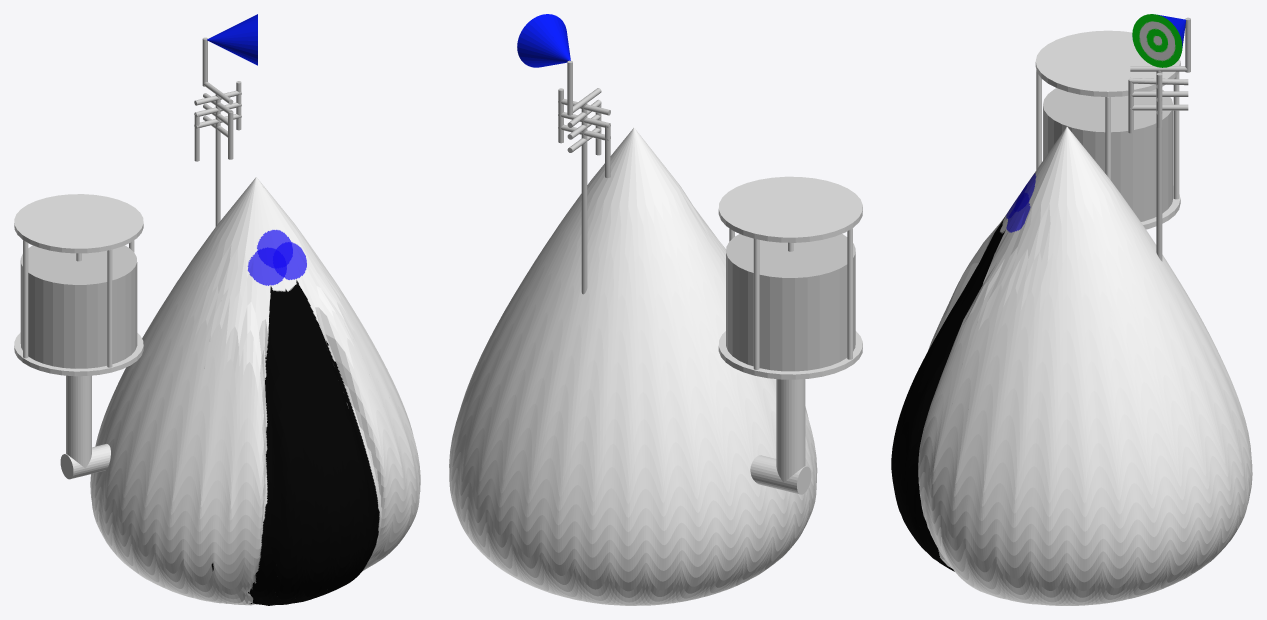
File: ship.fbx
3 renders of one model, left to right at view 1: azimuth 30°, elevation 25°; view 2: azimuth 150°, elevation 25°; view 3: azimuth 270°, elevation 25°, orthographic. The views are drawn at different scales.
Parts seen in each view (by area): view 1: Ship, Water, WaterTankTop, WaterTankVerticalPipe, Radar, WaterTank, WaterTankVerticalPipe.001, WaterTankBar4, WaterTankBar1, Antenna; view 2: Ship, Water, WaterTankTop, WaterTankVerticalPipe, Radar, WaterTank, WaterTankVerticalPipe.001, Antenna, WaterTankBar3, WaterTankBar1; view 3: Ship, Water, WaterTankTop, Radar, Antenna, WaterTankBar3, WaterTankBar4.
Part boxes in pixels (box(x1,y1,x2,y2)): Ship: box(90, 177, 420, 605); Water: box(20, 245, 137, 368); WaterTankTop: box(14, 194, 143, 253); WaterTankVerticalPipe: box(66, 375, 91, 468); Radar: box(207, 14, 257, 65); WaterTank: box(14, 332, 143, 376); WaterTankVerticalPipe.001: box(60, 444, 110, 479); WaterTankBar4: box(107, 249, 112, 367); WaterTankBar1: box(23, 240, 28, 358); Antenna: box(215, 93, 220, 226); Ship: box(449, 128, 817, 605); Water: box(726, 234, 855, 371); WaterTankTop: box(718, 176, 862, 242); WaterTankVerticalPipe: box(776, 379, 805, 482); Radar: box(517, 14, 570, 67); WaterTank: box(718, 331, 862, 379); WaterTankVerticalPipe.001: box(750, 455, 811, 494); Antenna: box(581, 102, 587, 294); WaterTankBar3: box(753, 238, 759, 369); WaterTankBar1: box(847, 228, 852, 359); Ship: box(891, 127, 1252, 605); Water: box(1043, 88, 1173, 221); WaterTankTop: box(1035, 30, 1180, 96); Radar: box(1132, 14, 1185, 67); Antenna: box(1156, 70, 1162, 261); WaterTankBar3: box(1173, 72, 1179, 199); WaterTankBar4: box(1036, 70, 1041, 169).
Size of the model in its own units: 1.6 by 2.23 by 1.25.
